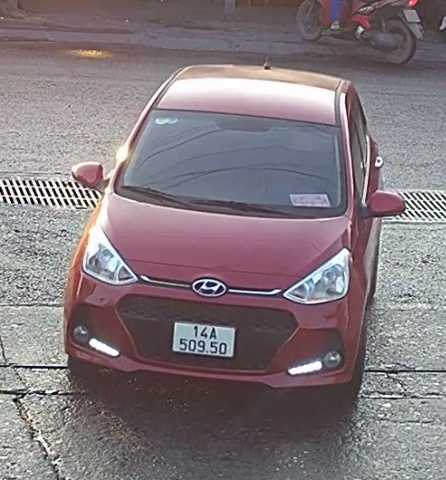vehicle plate: (166, 315, 238, 360)
